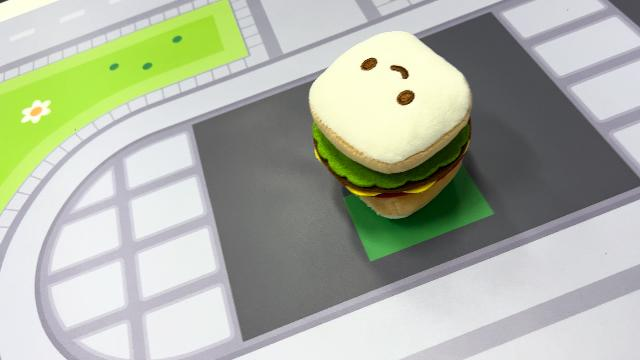sandwich: (306, 28, 477, 220)
